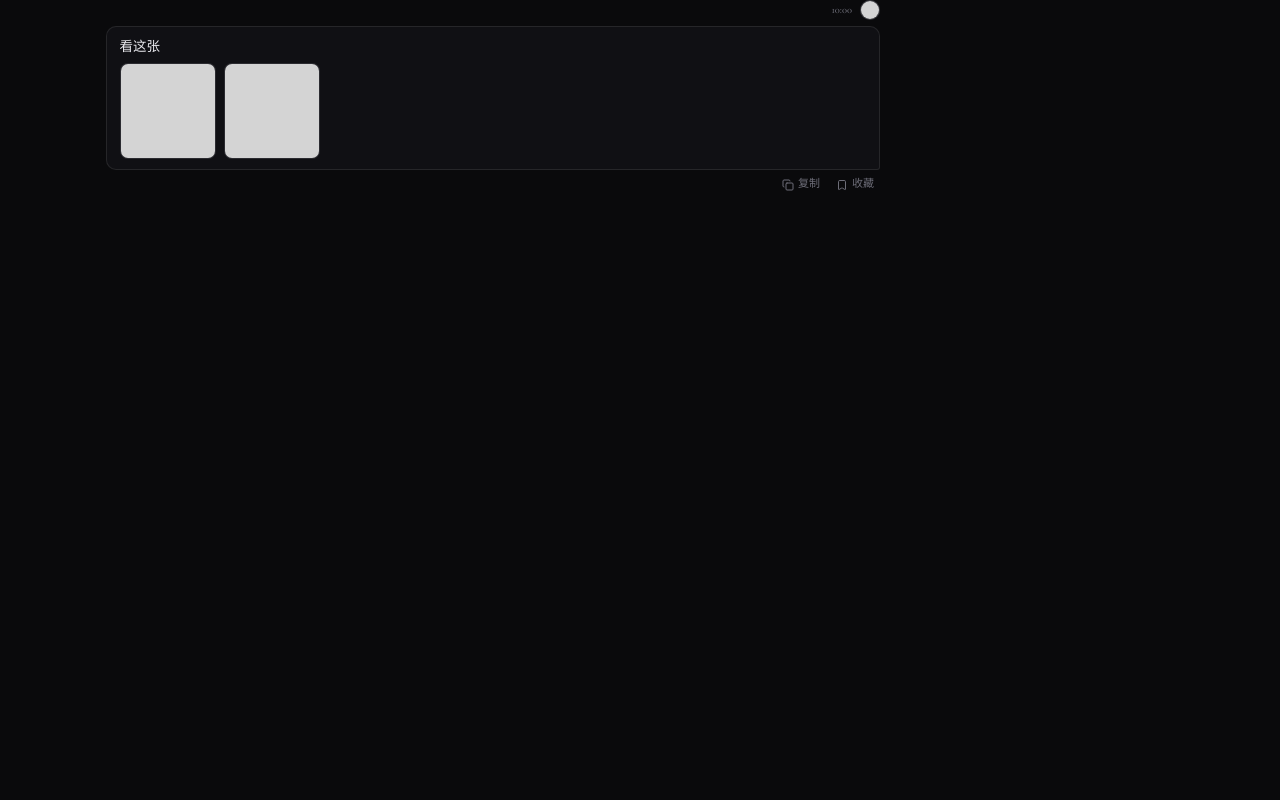
Test: #74 collect menu (D1 / D2) › collects a user attachment by provenance and greys out one without it
The width and height of the screenshot is (1280, 800).
Click the button with aria-label "收藏此条消息" at {"x": 855, "y": 185}, box [830,174,880,195]
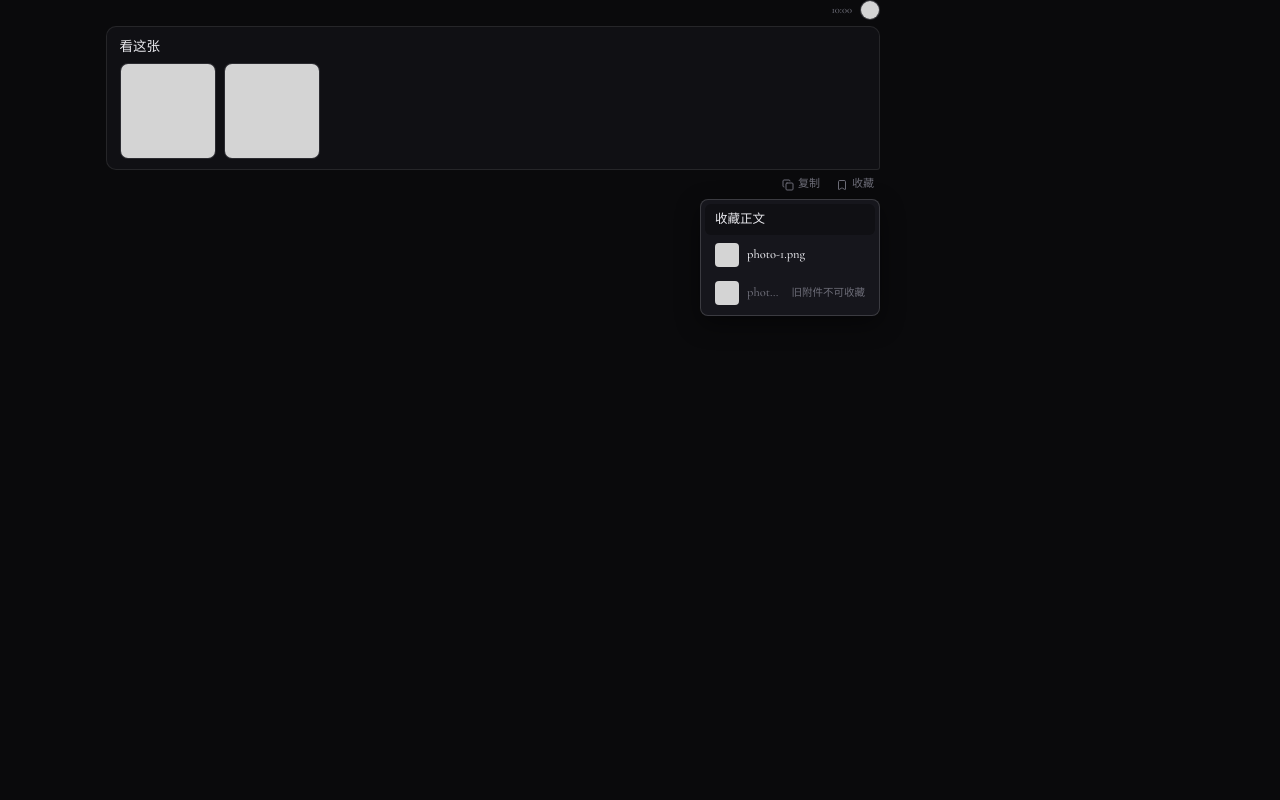
expect the menu item "photo-2.png 旧附件不可收藏" is disabled: met, box [705,274,875,310]
expect the menu item "photo-2.png 旧附件不可收藏" is shown: met, box [705,274,875,310]
Click the menu item "photo-1.png" at {"x": 790, "y": 254}, box [705,236,875,272]
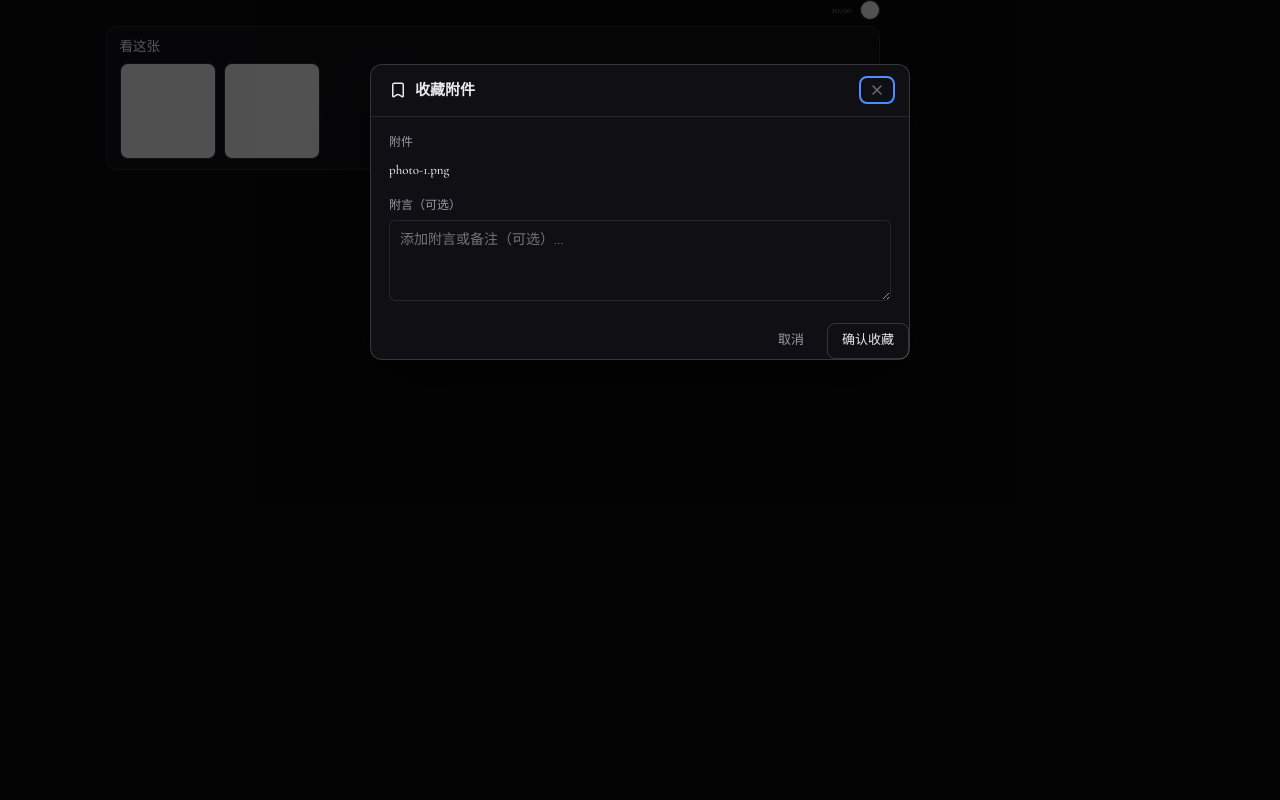
Click the button "确认收藏" at {"x": 868, "y": 341}, box [827,323,909,358]
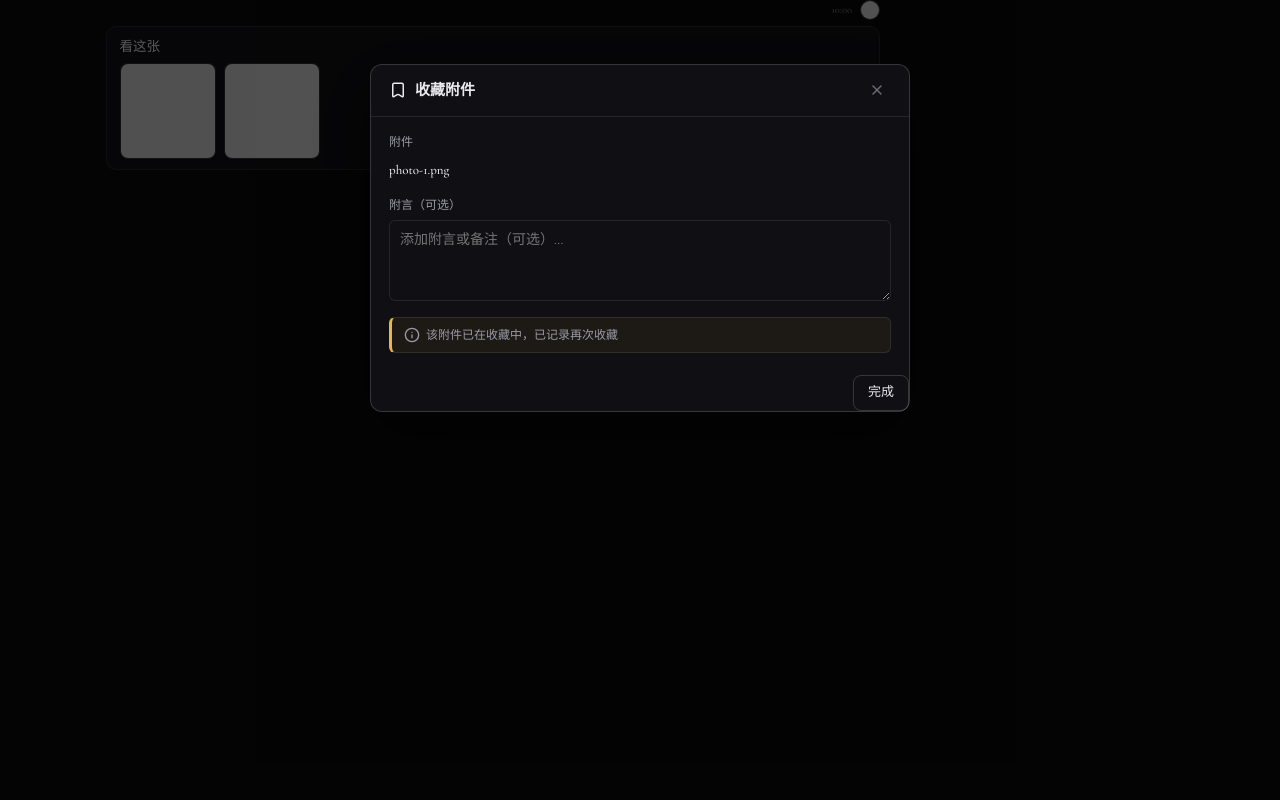
expect the text "该附件已在收藏中，已记录再次收藏" is shown: met, box [404,326,618,344]
